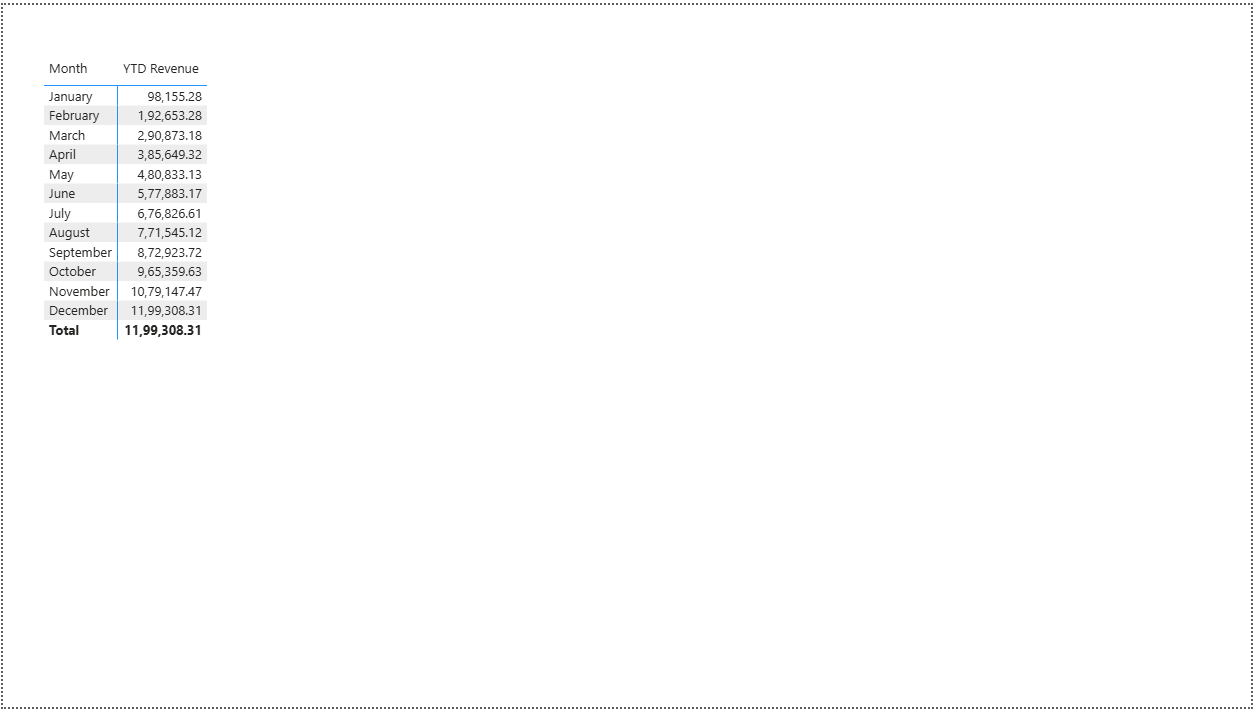

This screenshot's page, from the dashboard's own definition file:
{"tool":"powerbi","page":{"name":"\"YTD Revenue\" ","canvas":[1280,720],"ordinal":1},"visuals":[{"type":"pivotTable","fields":{"Rows":["MavenMarket_Calendar.Start of Month.Variation.Date Hierarchy.Month"],"Values":["MavenMarket Transactions.YTD Revenue"]},"box":[36.7,48.9,280,505],"z":0}]}

Visuals, with their boxes in screenshot pixels (x1, y1, x2, y2), scaled from the page's 1280x720 canvas onto the 1255x710 screenshot:
pivotTable - MavenMarket_Calendar.Start of Month.Variation.Date Hierarchy.Month x MavenMarket Transactions.YTD Revenue: bbox(36, 48, 311, 546)
